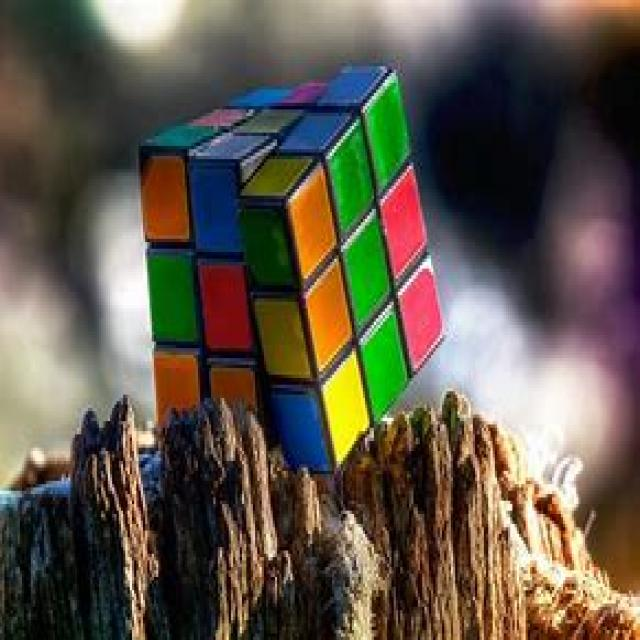cube: (134, 62, 447, 477)
